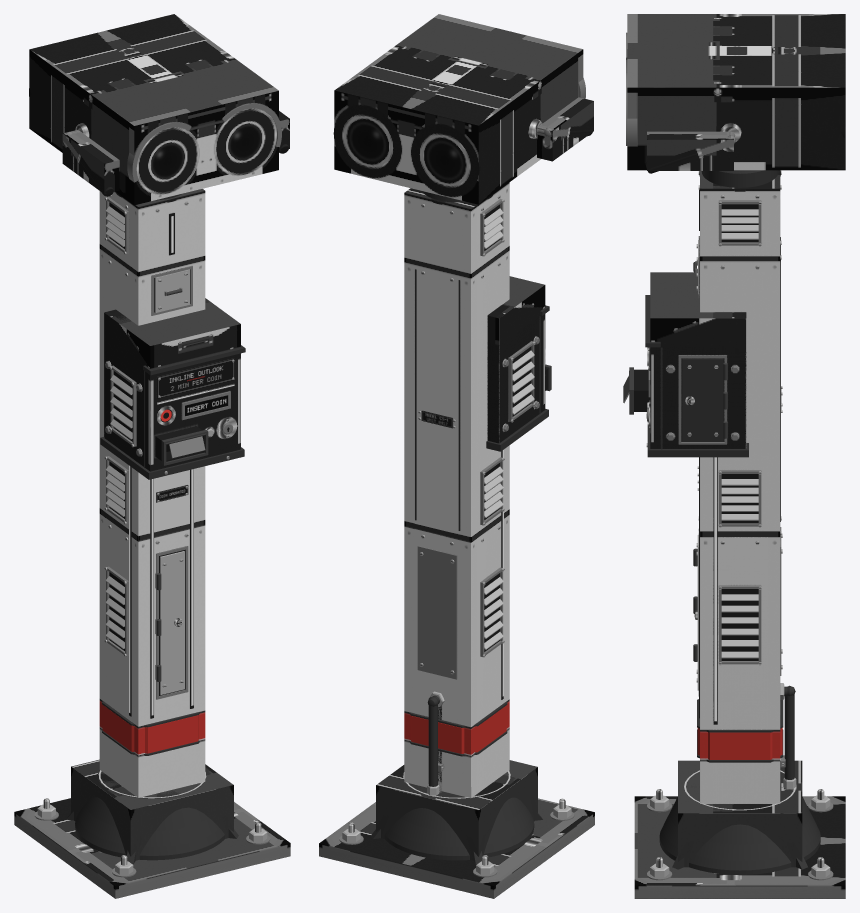
The model's file is coinscope-BmNsVNSs.glb.
3 renders of one model, left to right at view 1: azimuth 30°, elevation 25°; view 2: azimuth 150°, elevation 25°; view 3: azimuth 270°, elevation 25°, orthographic. The views are drawn at different scales.
Parts seen in each view (by area): view 1: farBaked, body, glow; view 2: farBaked, body, glow; view 3: farBaked, body, glow.
Part boxes in pixels (<box>): farBaked: <box>14,14,290,898</box>; body: <box>20,87,288,895</box>; glow: <box>98,216,234,798</box>; farBaked: <box>319,14,594,898</box>; body: <box>330,78,593,895</box>; glow: <box>403,449,510,798</box>; farBaked: <box>627,14,845,898</box>; body: <box>623,32,845,898</box>; glow: <box>684,457,795,810</box>.
Bounding box in the file's own units: 0.361 × 1.43 × 0.3583.
3 materials, 3 textured.
